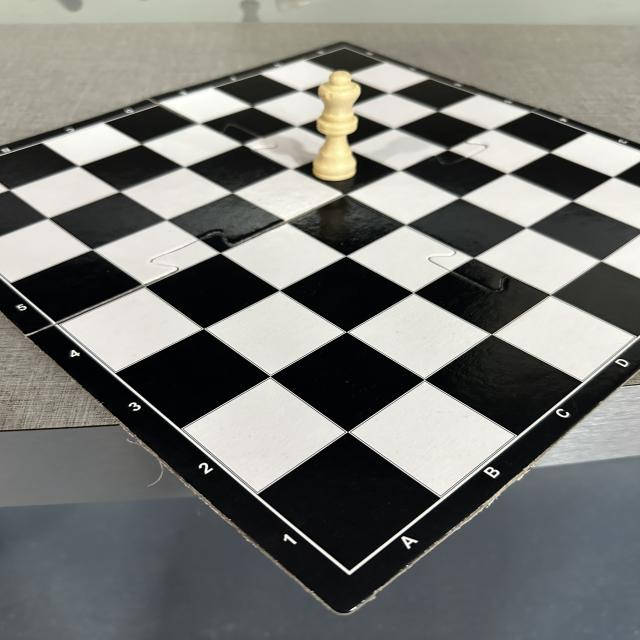White-Queen: (313, 70, 362, 181)
